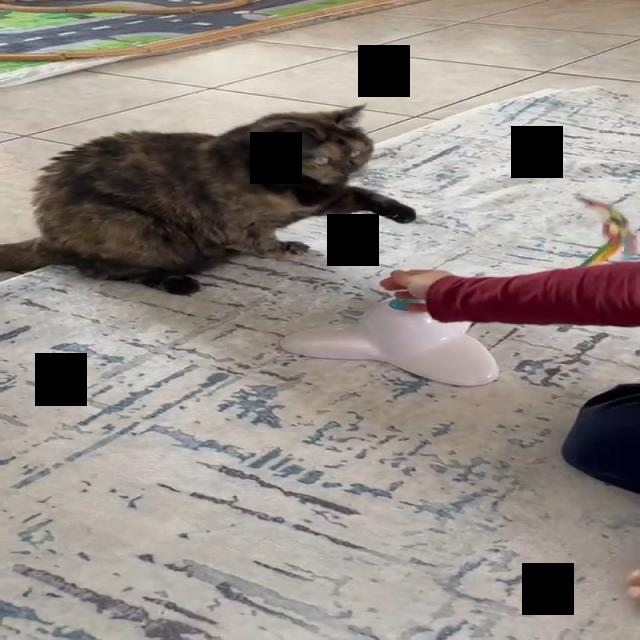authorized: (0, 102, 416, 296)
